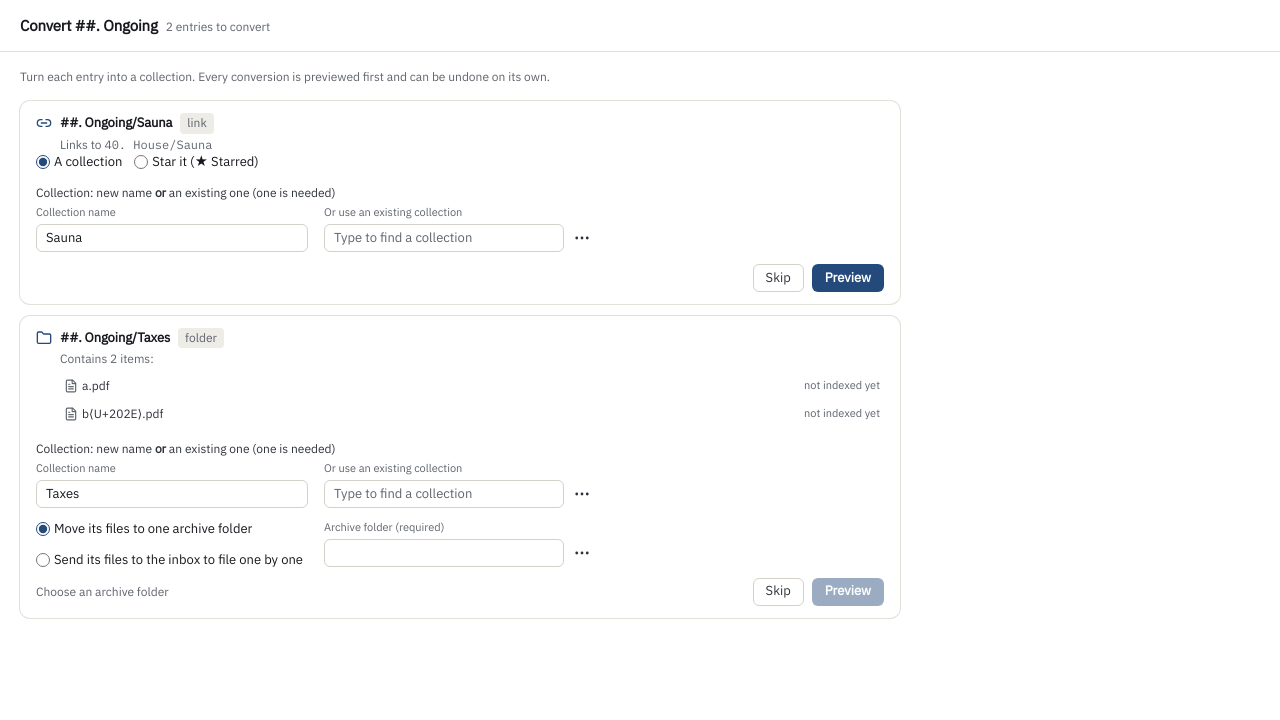
Test: ConvertOngoing › a link needs no destination; a folder needs one before Preview enables
The image size is (1280, 720).
Expected: the 1st button "Preview" is enabled, [812, 264, 884, 292]
Expected: the button "Preview" in the row of "Choose an archive folder" is disabled, [812, 578, 884, 606]
In the dropdown labelled "Archive folder (required)": (444, 553) [324, 539, 564, 567], type "10. Financial/Taxes"
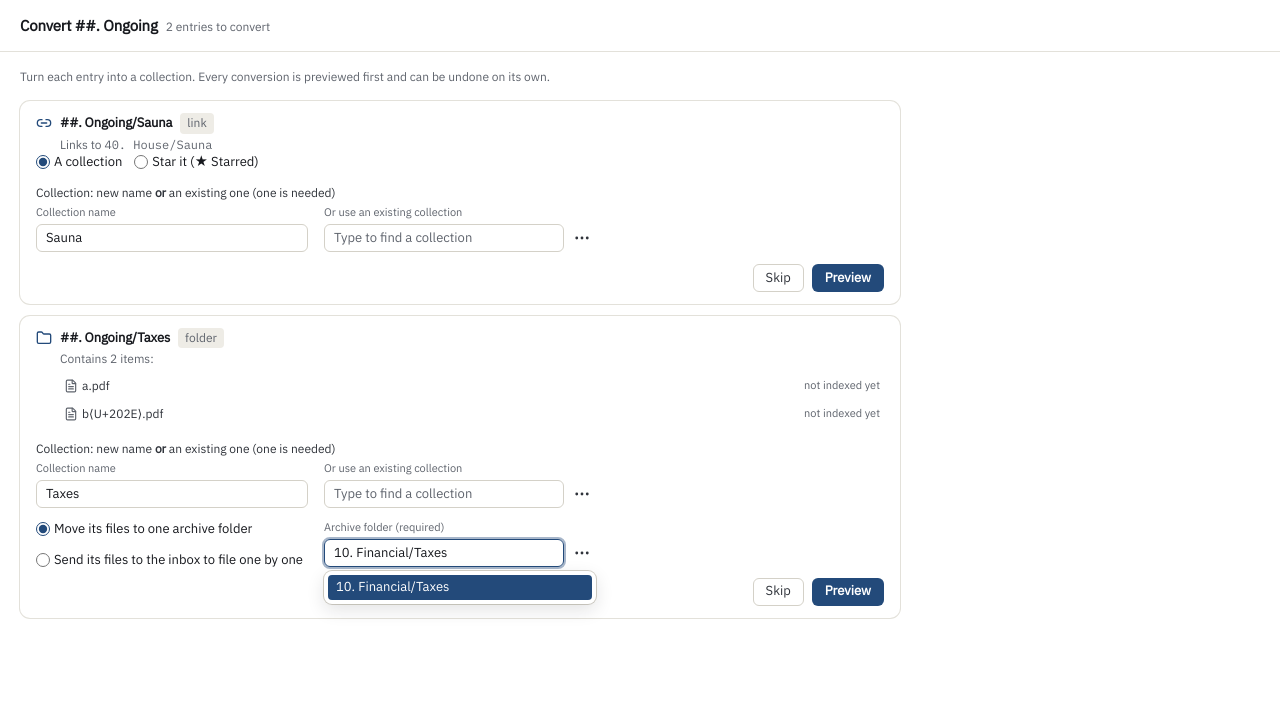
Now the button "Preview" in the row of "10. Financial/Taxes" is enabled, box [812, 578, 884, 606]
Now the text "Choose an archive folder" is gone
